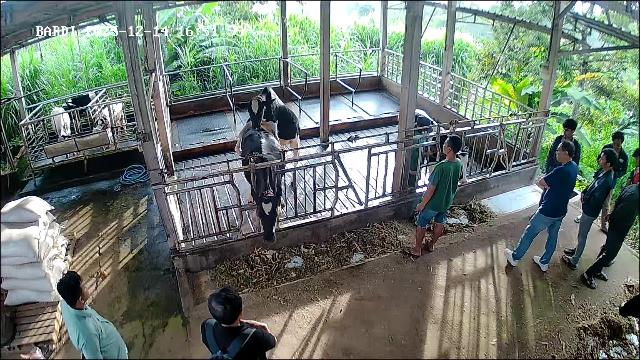mounting: (230, 86, 302, 190)
